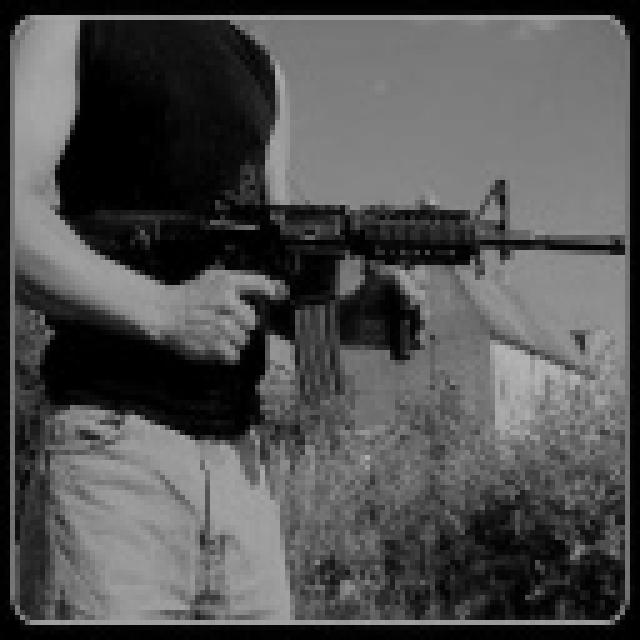Rifle: (0, 151, 640, 429)
